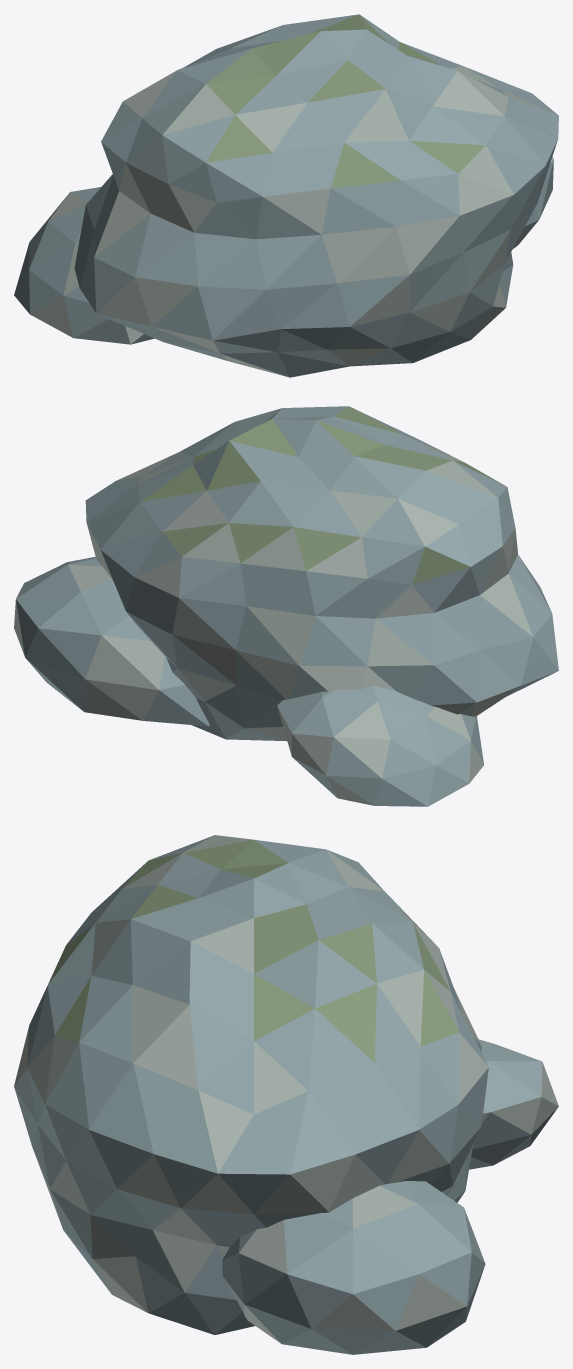
File: coastal_rocks.glb
The picture shows the model from 3 angles, top to bottom: view 1: azimuth 30°, elevation 25°; view 2: azimuth 150°, elevation 25°; view 3: azimuth 270°, elevation 25°; orthographic projection. The views are drawn at different scales.
Parts seen in each view (by area): view 1: Stratified shore stone, Stratified shore stone.002, Stratified shore stone.001; view 2: Stratified shore stone, Stratified shore stone.002, Stratified shore stone.001; view 3: Stratified shore stone, Stratified shore stone.001, Stratified shore stone.002.
Boxes of the visible parts, left/top/right/bottom form: Stratified shore stone: left=74, top=14, right=558, bottom=377; Stratified shore stone.002: left=14, top=187, right=154, bottom=344; Stratified shore stone.001: left=512, top=157, right=553, bottom=249; Stratified shore stone: left=85, top=406, right=558, bottom=740; Stratified shore stone.002: left=277, top=686, right=483, bottom=806; Stratified shore stone.001: left=14, top=556, right=209, bottom=726; Stratified shore stone: left=14, top=835, right=488, bottom=1334; Stratified shore stone.001: left=222, top=1181, right=485, bottom=1354; Stratified shore stone.002: left=469, top=1039, right=558, bottom=1169.
Bounding box in the file's own units: 2.04 × 1.12 × 1.54.
